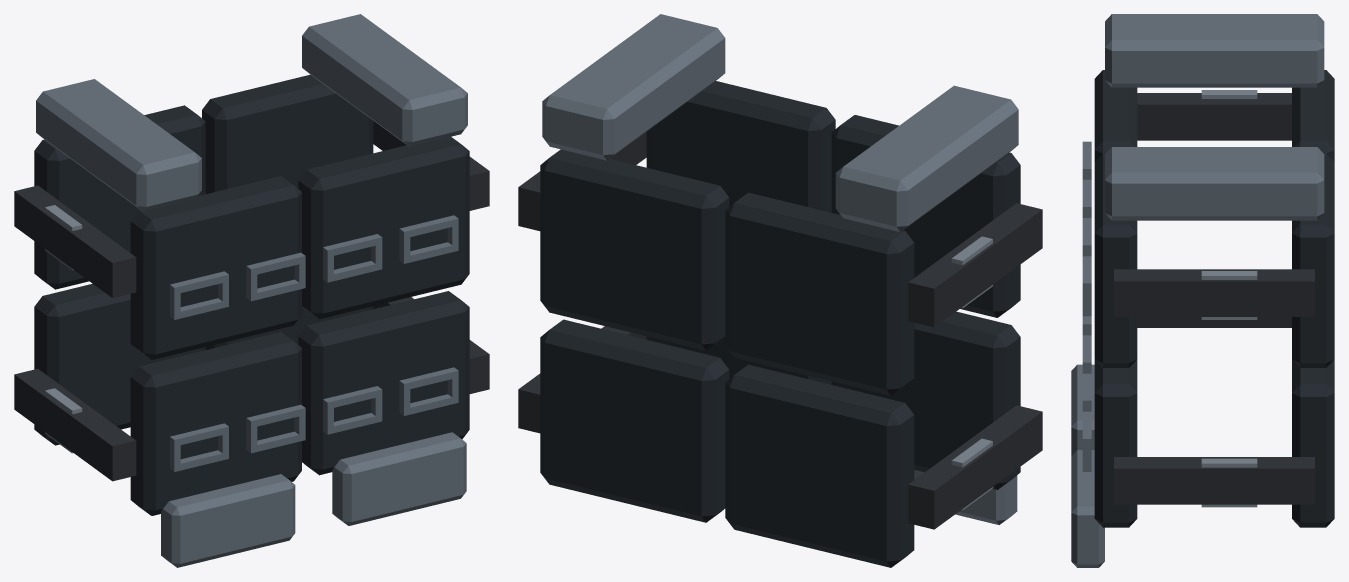
File: tactical_plate_carrier.fbx
3 renders of one model, left to right at view 1: azimuth 30°, elevation 25°; view 2: azimuth 150°, elevation 25°; view 3: azimuth 270°, elevation 25°, orthographic. The views are drawn at different scales.
Visible parts, largest first — view 1: TacticalPlateCarrier; view 2: TacticalPlateCarrier; view 3: TacticalPlateCarrier.
Part boxes in pixels (box(x1,y1,x2,y2)): TacticalPlateCarrier: box(14, 14, 489, 567); TacticalPlateCarrier: box(518, 14, 1042, 567); TacticalPlateCarrier: box(1071, 14, 1334, 567).
Size of the model in its own units: 220 by 220 by 130.
